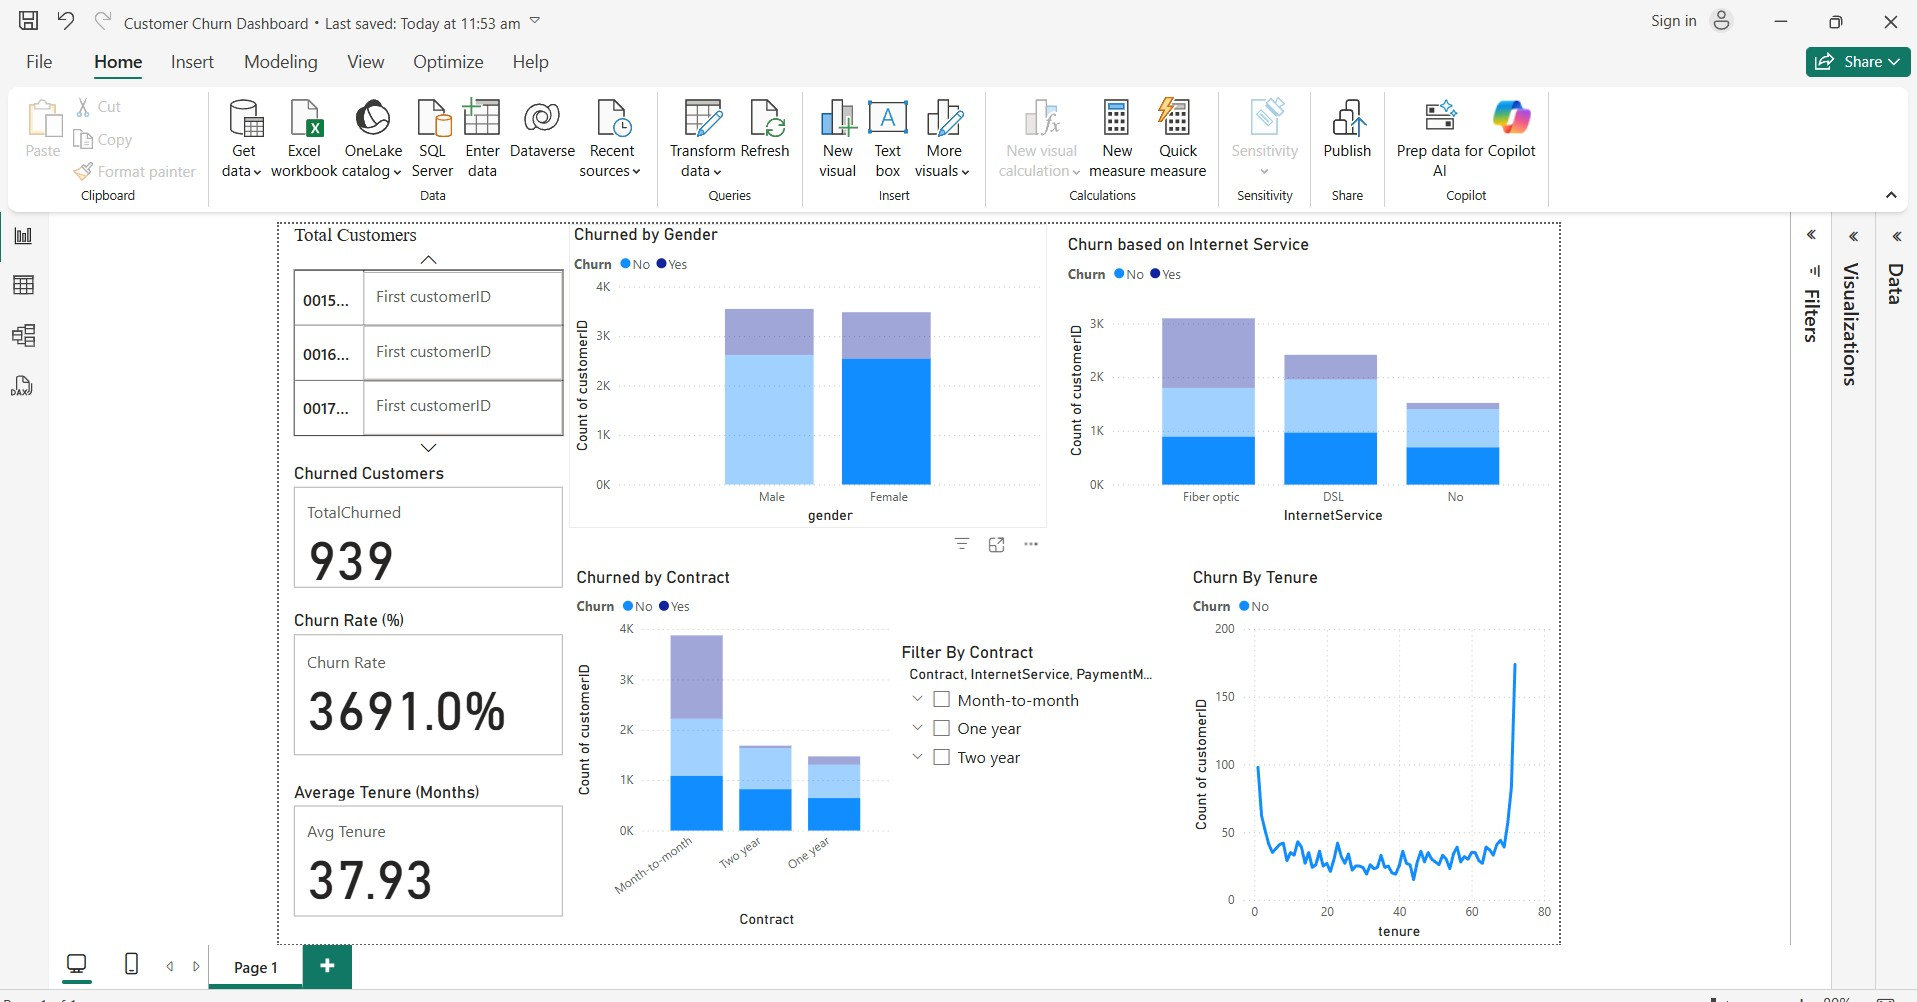

What the dashboard file says about the page in this screenshot:
{"tool":"powerbi","page":{"name":"Page 1","canvas":[1280,720],"ordinal":0},"visuals":[{"type":"cardVisual","title":"Total Customers","fields":{"Rows":["WA_Fn-UseC_-Telco-Customer-Churn.customerID"],"Data":["Min(WA_Fn-UseC_-Telco-Customer-Churn.customerID)"]},"box":[10,0,279.9,238.8],"z":0},{"type":"cardVisual","title":"Churned Customers","fields":{"Data":["WA_Fn-UseC_-Telco-Customer-Churn.TotalChurned"]},"box":[10,238.8,279.9,130.6],"z":1000},{"type":"cardVisual","title":"Churn Rate (%)","fields":{"Data":["WA_Fn-UseC_-Telco-Customer-Churn.Churn Rate"]},"box":[10,385.6,279.9,150.5],"z":2000},{"type":"cardVisual","title":"Average Tenure (Months)","fields":{"Data":["WA_Fn-UseC_-Telco-Customer-Churn.Avg Tenure"]},"box":[10,557.3,279.9,140.6],"z":3000},{"type":"columnChart","title":"Churned by Gender","fields":{"Category":["WA_Fn-UseC_-Telco-Customer-Churn.gender"],"Y":["CountNonNull(WA_Fn-UseC_-Telco-Customer-Churn.customerID)"],"Series":["WA_Fn-UseC_-Telco-Customer-Churn.Churn"]},"box":[290,0,477.1,304.3],"z":4000},{"type":"columnChart","title":"Churned by Contract","fields":{"Category":["WA_Fn-UseC_-Telco-Customer-Churn.Contract"],"Y":["CountNonNull(WA_Fn-UseC_-Telco-Customer-Churn.customerID)"],"Series":["WA_Fn-UseC_-Telco-Customer-Churn.Churn"]},"box":[292.9,342.9,324.3,365.7],"z":5000},{"type":"columnChart","title":"Churn based on Internet Service","fields":{"Category":["WA_Fn-UseC_-Telco-Customer-Churn.InternetService"],"Series":["WA_Fn-UseC_-Telco-Customer-Churn.Churn"],"Y":["CountNonNull(WA_Fn-UseC_-Telco-Customer-Churn.customerID)"]},"box":[784.3,10,495.7,294.3],"z":6000},{"type":"lineChart","title":"Churn By Tenure","fields":{"Category":["WA_Fn-UseC_-Telco-Customer-Churn.tenure"],"Y":["CountNonNull(WA_Fn-UseC_-Telco-Customer-Churn.customerID)"],"Series":["WA_Fn-UseC_-Telco-Customer-Churn.Churn"]},"box":[908.6,342.9,371.4,377.1],"z":7000},{"type":"slicer","title":"Filter By Contract","fields":{"Values":["WA_Fn-UseC_-Telco-Customer-Churn.Contract","WA_Fn-UseC_-Telco-Customer-Churn.InternetService","WA_Fn-UseC_-Telco-Customer-Churn.PaymentMethod","WA_Fn-UseC_-Telco-Customer-Churn.SeniorCitizen"]},"box":[617.1,417.1,280,302.9],"z":7001}]}

Visuals, with their boxes on the page's 1280x720 design canvas (x1, y1, x2, y2). These are canvas units, not pixel positions in the 1917x1002 screenshot, which may show the page scaled, cropped or inside an application window:
"Total Customers" cardVisual: <box>10,0,290,239</box>
"Churned Customers" cardVisual: <box>10,239,290,369</box>
"Churn Rate (%)" cardVisual: <box>10,386,290,536</box>
"Average Tenure (Months)" cardVisual: <box>10,557,290,698</box>
"Churned by Gender" columnChart: <box>290,0,767,304</box>
"Churned by Contract" columnChart: <box>293,343,617,709</box>
"Churn based on Internet Service" columnChart: <box>784,10,1280,304</box>
"Churn By Tenure" lineChart: <box>909,343,1280,720</box>
"Filter By Contract" slicer: <box>617,417,897,720</box>
